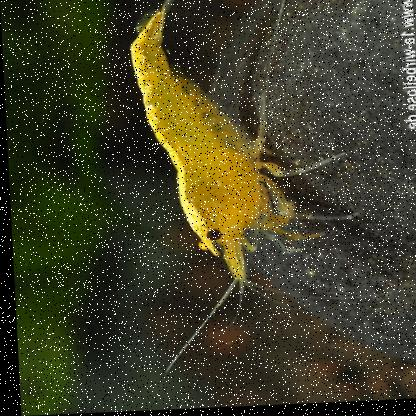shrimp: (124, 0, 354, 287)
